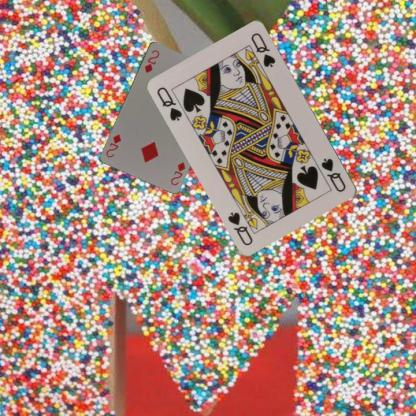2d: (141, 47, 161, 74), (168, 159, 187, 187)
Qs: (154, 84, 184, 122), (319, 156, 348, 194)
